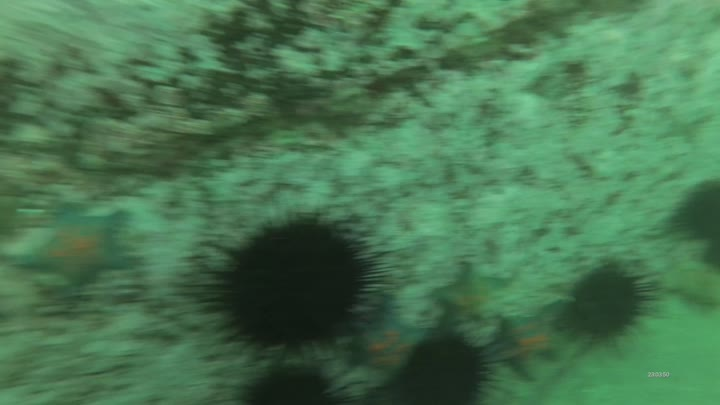echinus: (170, 204, 406, 363), (554, 256, 665, 348), (387, 325, 512, 405), (222, 357, 372, 405), (669, 180, 720, 246)
starfish: (28, 207, 136, 289), (347, 298, 430, 377), (430, 257, 512, 330), (484, 314, 570, 383)
